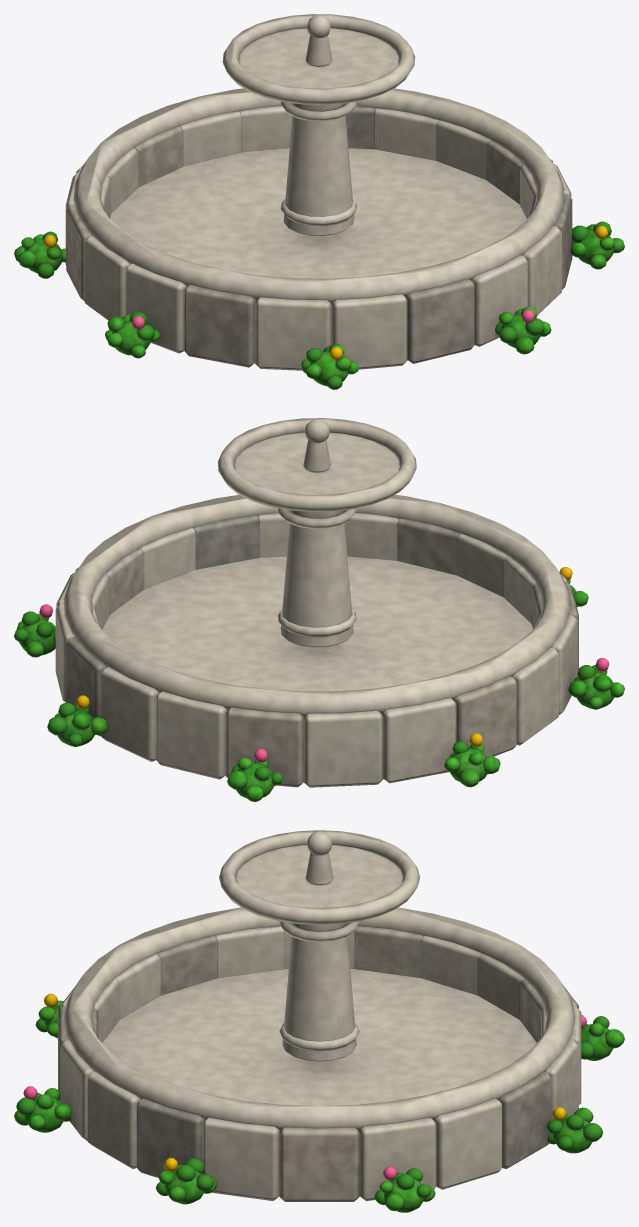
The model's file is fountain.glb.
The picture shows the model from 3 angles, top to bottom: view 1: azimuth 30°, elevation 25°; view 2: azimuth 150°, elevation 25°; view 3: azimuth 270°, elevation 25°; orthographic projection. The views are drawn at different scales.
Visible parts, largest first — view 1: fountain; view 2: fountain; view 3: fountain.
Boxes of the visible parts, left/top/right/bottom form: fountain: left=14, top=14, right=624, bottom=389; fountain: left=14, top=418, right=624, bottom=801; fountain: left=14, top=830, right=624, bottom=1212.
Size of the model in its own units: 2.13 by 1.01 by 2.13.
Materials: 1 (1 with a texture image).
